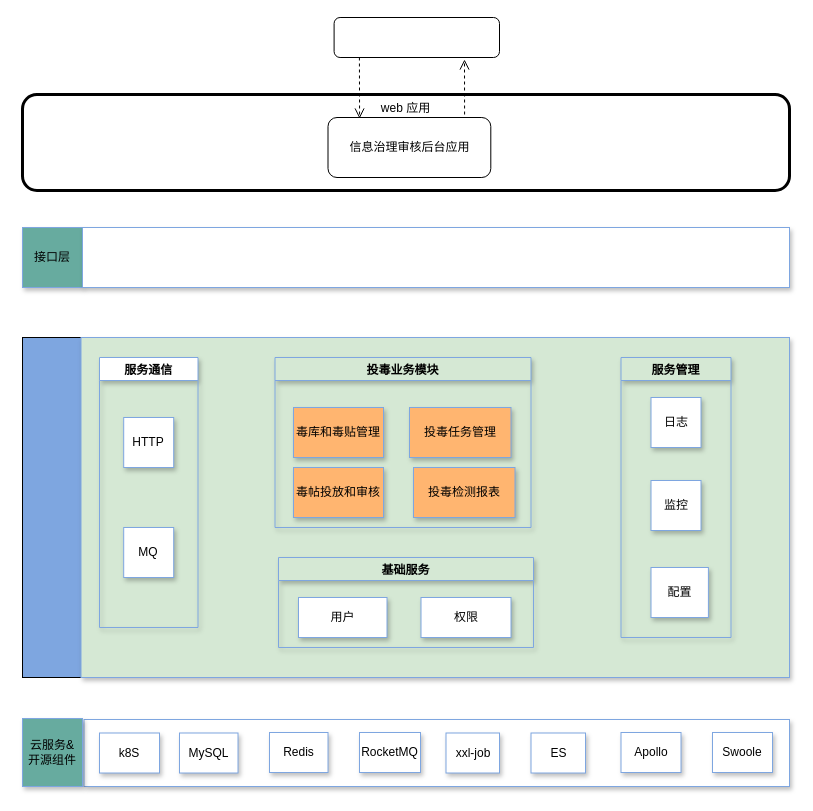
Image size: 813x811. Some labels were removed from this diagram. Here are the shapes that lost their labels. From the top down, the centre of each, then its label:
At (x=416, y=37): "浏览器".
At (x=437, y=258): "API Gateway".
At (x=52, y=507): "服务层".
